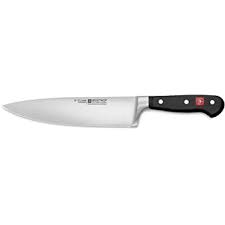knife: (1, 77, 225, 131)
